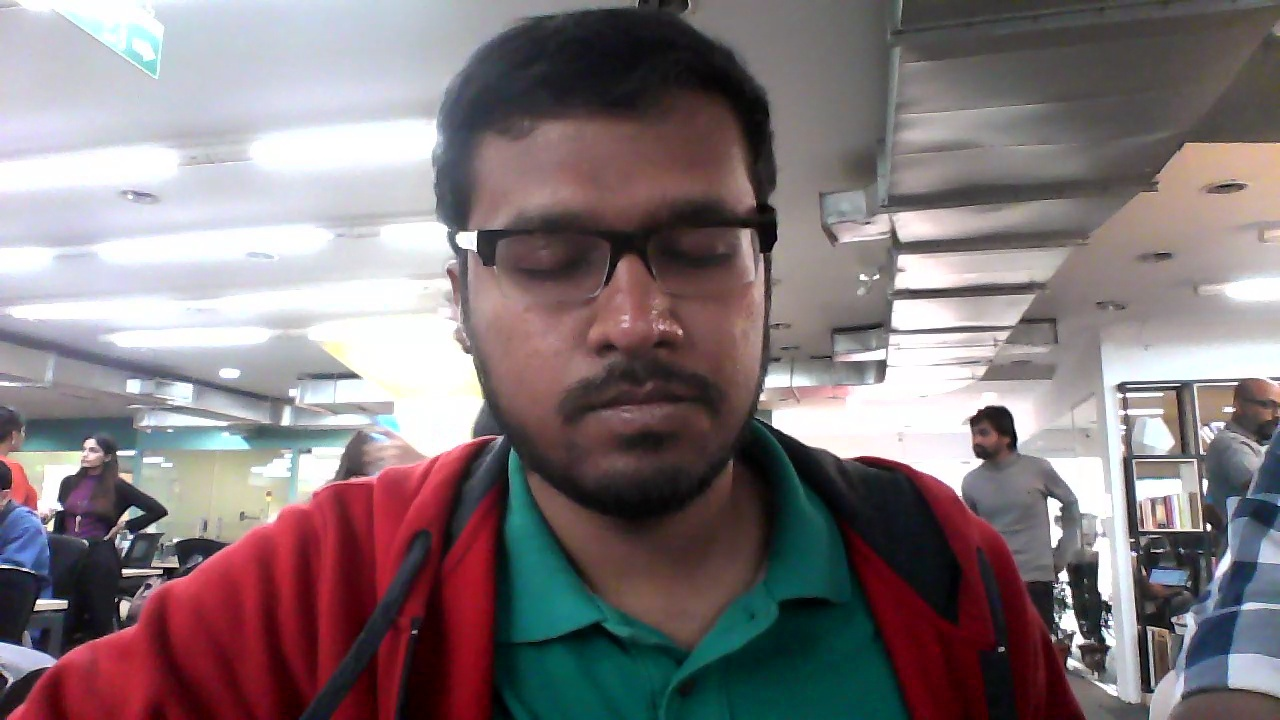closed: (437, 11, 784, 526)
